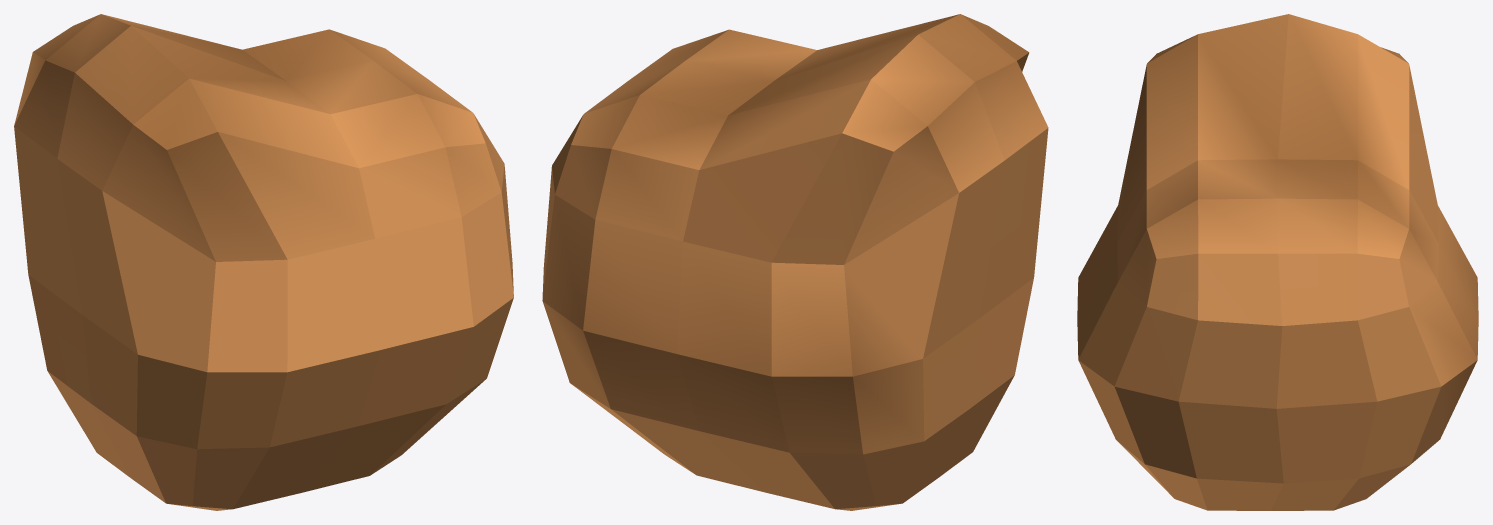
The model's file is Rock_Desert03.fbx.
3 renders of one model, left to right at view 1: azimuth 30°, elevation 25°; view 2: azimuth 150°, elevation 25°; view 3: azimuth 270°, elevation 25°, orthographic. The views are drawn at different scales.
Parts seen in each view (by area): view 1: Rock_Desert03_LOD0; view 2: Rock_Desert03_LOD0; view 3: Rock_Desert03_LOD0.
Part boxes in pixels (bbox=[...]): Rock_Desert03_LOD0: bbox=[14, 14, 513, 510]; Rock_Desert03_LOD0: bbox=[542, 14, 1048, 510]; Rock_Desert03_LOD0: bbox=[1077, 14, 1478, 510].
Size of what is drawn, in the model's own units: 64.11 by 69.61 by 59.46.
